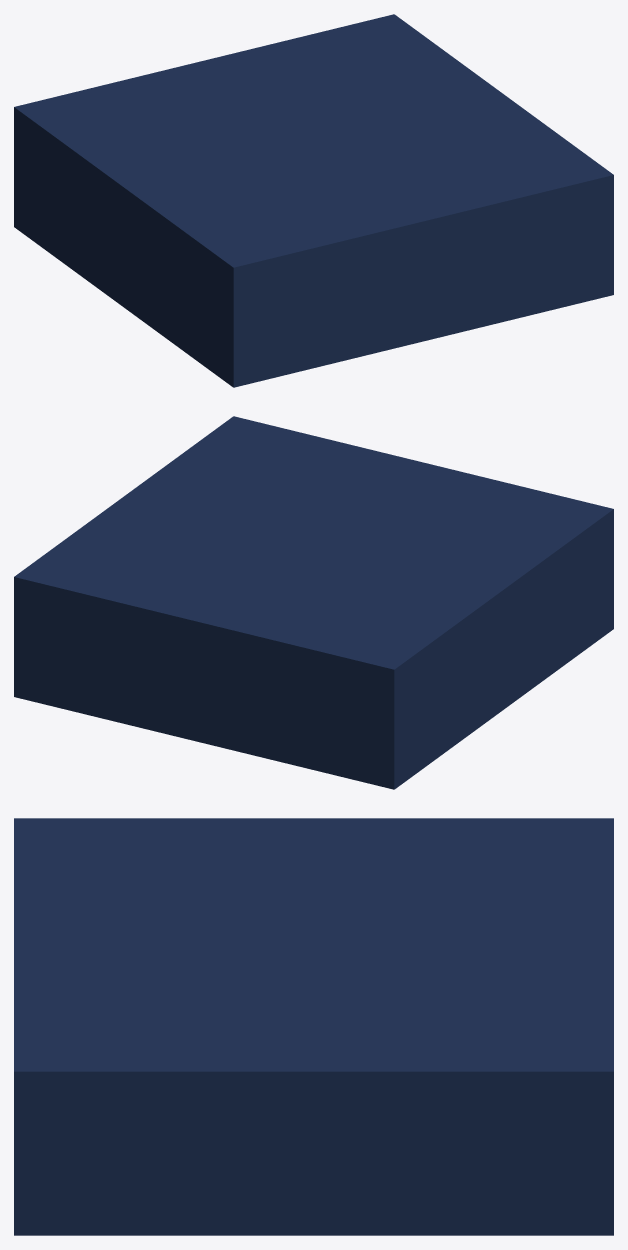
File: D4_Aquarium_inside.fbx
The picture shows the model from 3 angles, top to bottom: view 1: azimuth 30°, elevation 25°; view 2: azimuth 150°, elevation 25°; view 3: azimuth 270°, elevation 25°; orthographic projection. The views are drawn at different scales.
Visible parts, largest first — view 1: Cube.165; view 2: Cube.165; view 3: Cube.165.
Part boxes in pixels (box(x1,y1,x2,y2)): Cube.165: box(14, 14, 613, 387); Cube.165: box(14, 416, 613, 789); Cube.165: box(14, 818, 613, 1235).
Size of the model in its own units: 2000 by 603 by 2000.
5 materials, 3 textured.
